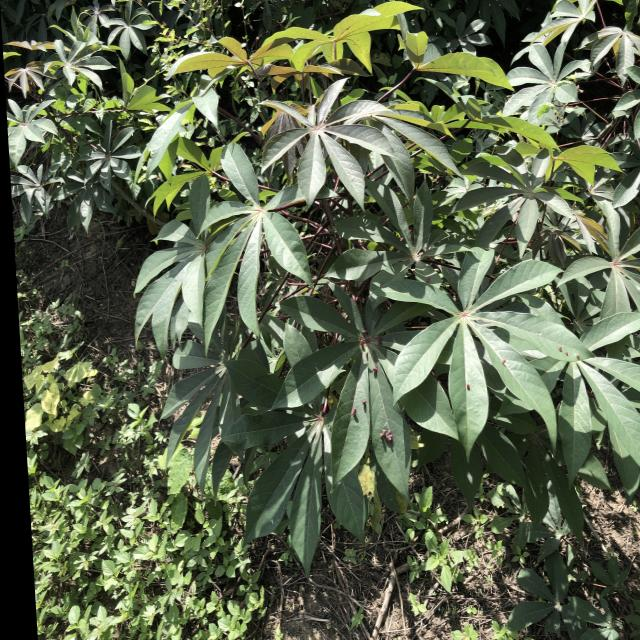Maleza: (17, 284, 139, 636), (41, 537, 276, 640)
Mosca: (557, 342, 584, 365), (378, 425, 400, 444), (375, 324, 388, 351), (358, 330, 373, 352), (348, 403, 364, 423), (367, 360, 381, 376), (361, 391, 374, 407), (499, 351, 506, 370), (465, 379, 472, 393)
